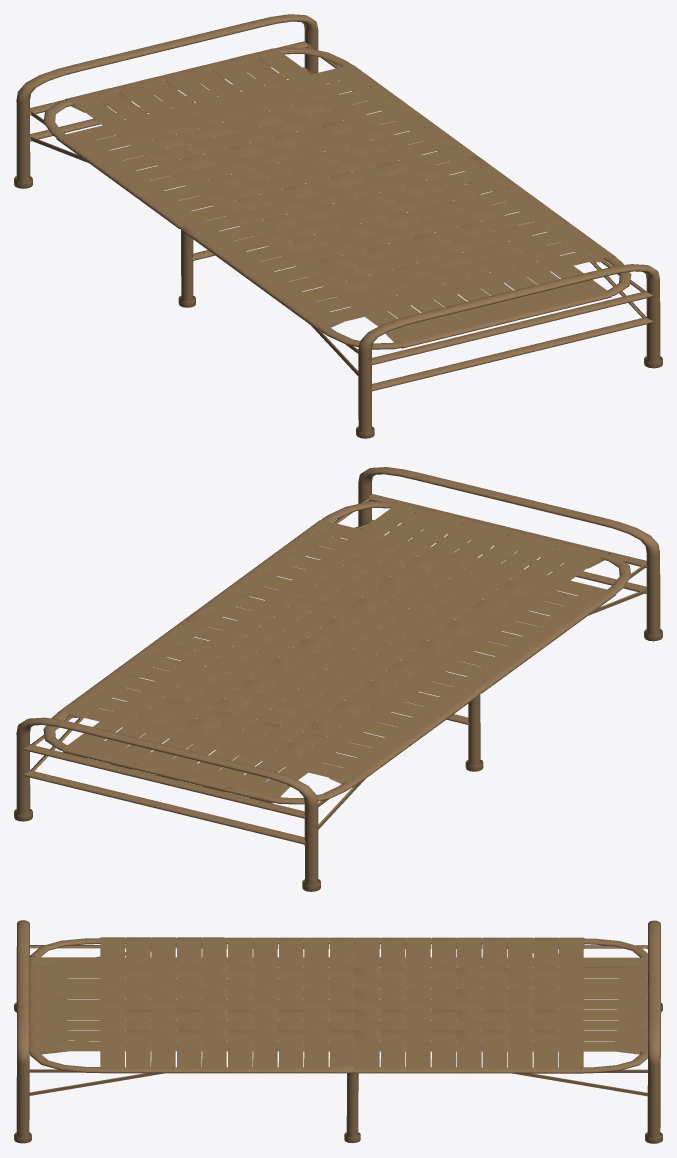
The model's file is truckle-beds.glb.
The picture shows the model from 3 angles, top to bottom: view 1: azimuth 30°, elevation 25°; view 2: azimuth 150°, elevation 25°; view 3: azimuth 270°, elevation 25°; orthographic projection. The views are drawn at different scales.
Parts seen in each view (by area): view 1: truckle-beds; view 2: truckle-beds; view 3: truckle-beds.
Part boxes in pixels (x1,y1,x2,y2): truckle-beds: (14,14,662,438); truckle-beds: (14,467,662,891); truckle-beds: (14,920,662,1143).
Bounding box in the file's own units: 0.9 × 0.3 × 1.8.
